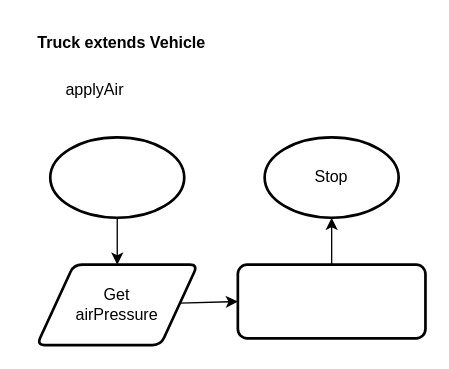
Image size: 449x369. Some labels were removed from this diagram. The centre of each missing label's shape, as x and y in pixels:
Start: [116,176]
this.speed = this.speed - airPressure / 2: [331,301]
